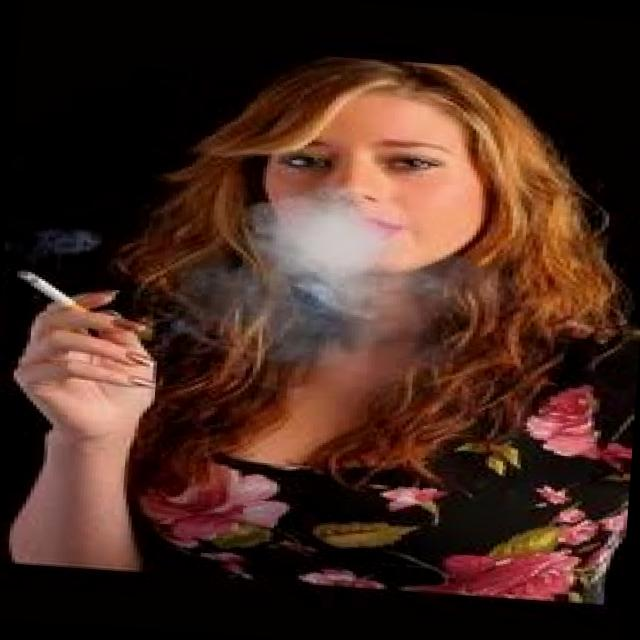cigarette: (10, 268, 96, 314)
